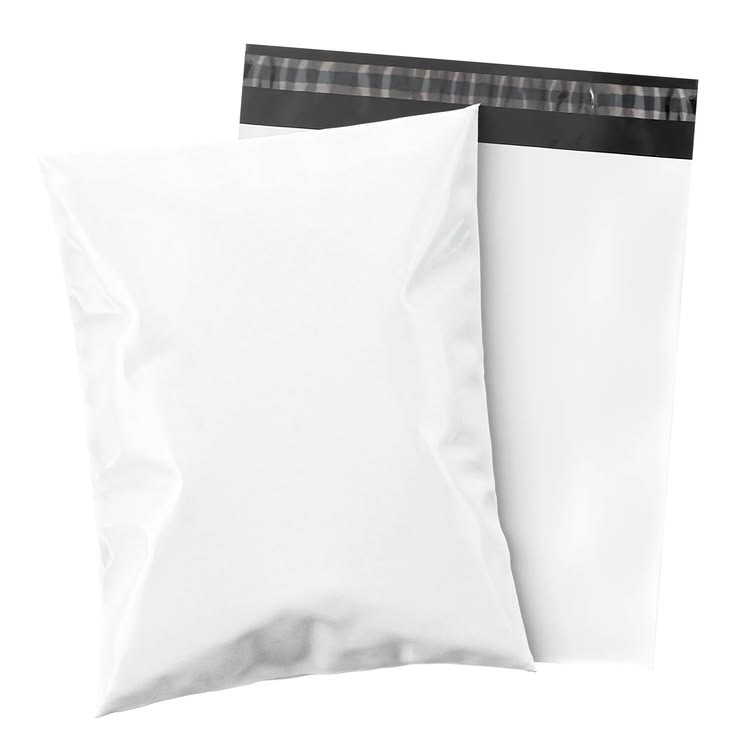Parcel: (199, 43, 704, 677), (41, 109, 533, 709)
